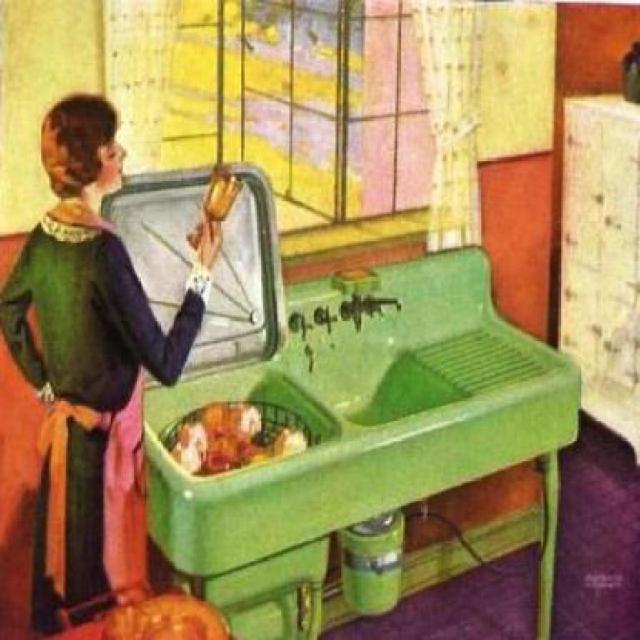Person: (12, 87, 198, 636)
